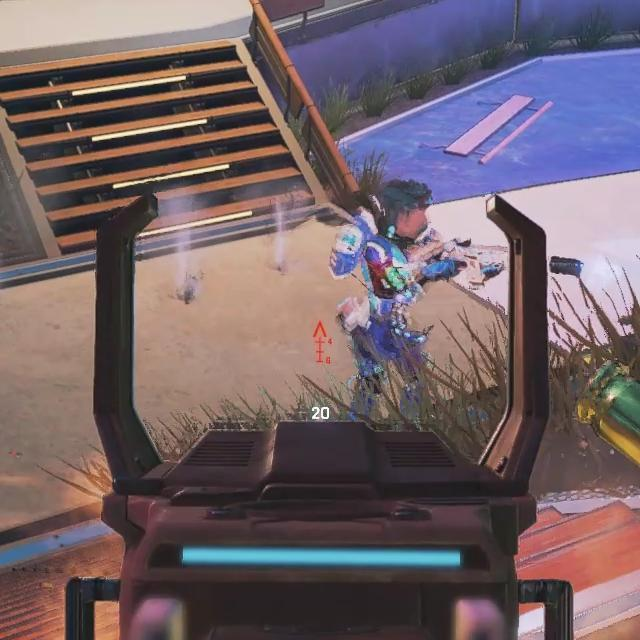avatar: (326, 175, 465, 421)
